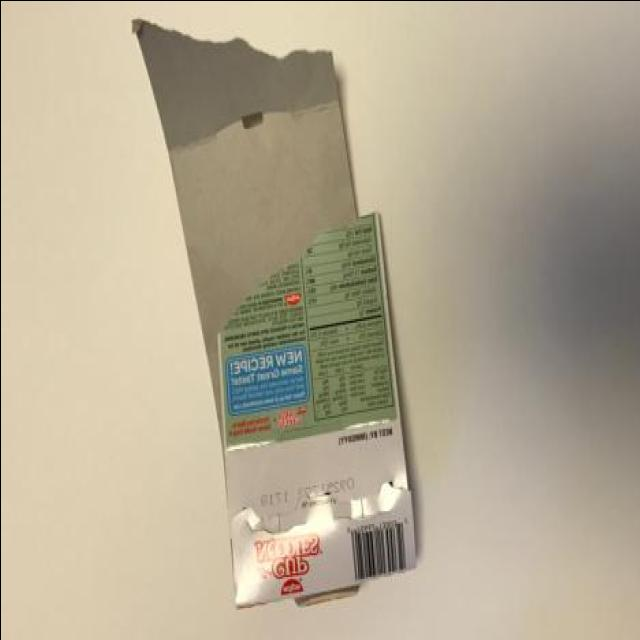kertas: (126, 16, 420, 610)
